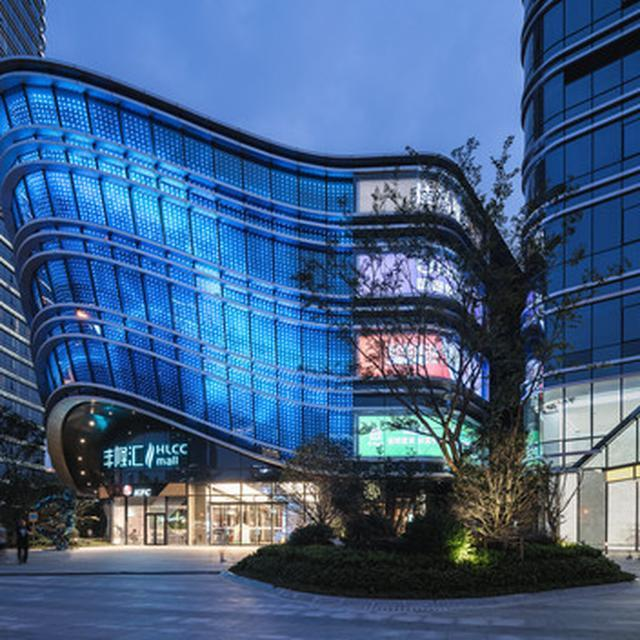building: (0, 48, 526, 526), (514, 0, 640, 557)
